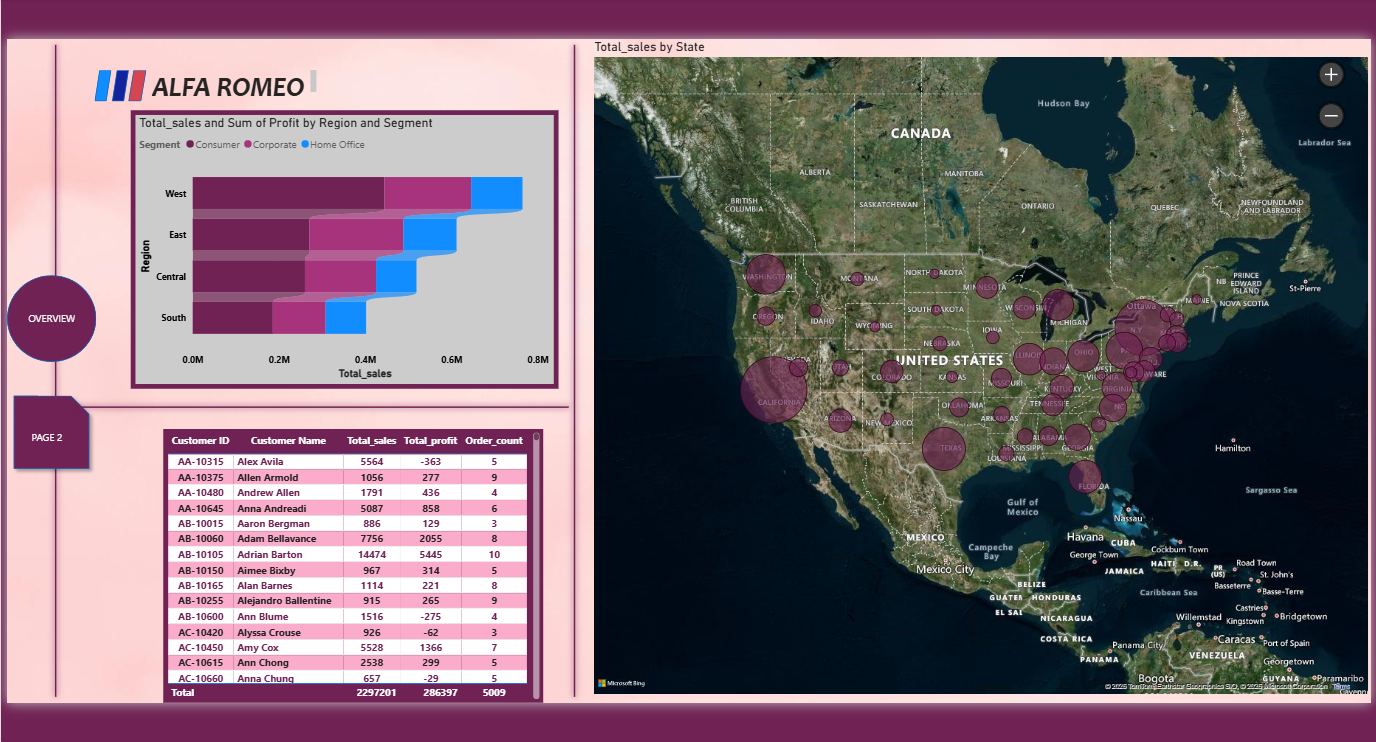

What the dashboard file says about the page in this screenshot:
{"tool":"powerbi","page":{"name":"Page 3","canvas":[1850,900],"ordinal":2},"visuals":[{"type":"shape","box":[119.3,42.5,22.8,42.1],"z":0},{"type":"shape","box":[142.2,42.5,22.8,42.1],"z":1000},{"type":"shape","box":[165,42.5,24.6,42.1],"z":2000},{"type":"textbox","box":[191,37.2,232.8,46.6],"z":3000},{"type":"shape","box":[43.9,0,43.9,900],"z":4000},{"type":"shape","box":[0,321.1,121.1,117.5],"z":5000},{"type":"shape","box":[0,474.1,120.7,117.2],"z":6000},{"type":"barChart","fields":{"Y":["Sample - Superstore.Total_sales"],"Category":["Dim_Customers.Region"],"Series":["Dim_Customers.Segment"]},"box":[167.8,96.6,579.7,378],"z":7000},{"type":"map","fields":{"Category":["Sample - Superstore.State","Sample - Superstore.City","Sample - Superstore.Region"],"Size":["Sample - Superstore.Total_sales"]},"box":[791.5,0,1059.3,893.2],"z":8000},{"type":"tableEx","fields":{"Values":["Dim_Customers.Customer ID","Dim_Customers.Customer Name","Sample - Superstore.Total_sales","Sample - Superstore.Total_profit","Sample - Superstore.Order_count"]},"box":[211.9,528.8,515.3,371.2],"z":9000},{"type":"shape","box":[747.5,0,44.1,900],"z":10000},{"type":"shape","box":[88.1,450.8,681.4,96.6],"z":11000}]}

Visuals, with their boxes in screenshot pixels (x1, y1, x2, y2):
shape: box=[98, 67, 115, 98]
shape: box=[115, 67, 132, 98]
shape: box=[132, 67, 150, 98]
textbox: box=[151, 63, 322, 97]
shape: box=[43, 36, 75, 696]
shape: box=[11, 271, 100, 358]
shape: box=[11, 384, 99, 470]
barChart - Sample - Superstore.Total_sales x Dim_Customers.Region: box=[134, 107, 559, 384]
map - Sample - Superstore.State x Sample - Superstore.City: box=[591, 36, 1368, 691]
tableEx - Dim_Customers.Customer ID x Dim_Customers.Customer Name: box=[166, 424, 544, 696]
shape: box=[559, 36, 591, 696]
shape: box=[75, 366, 575, 437]
